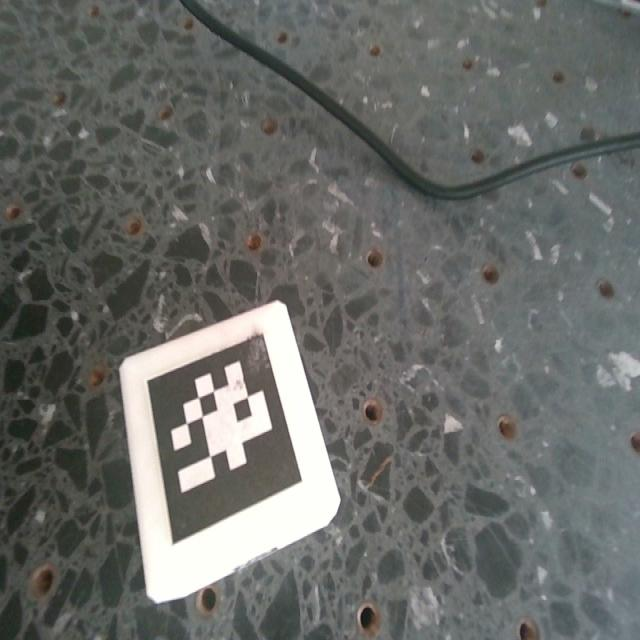Cube: (118, 304, 341, 605)
